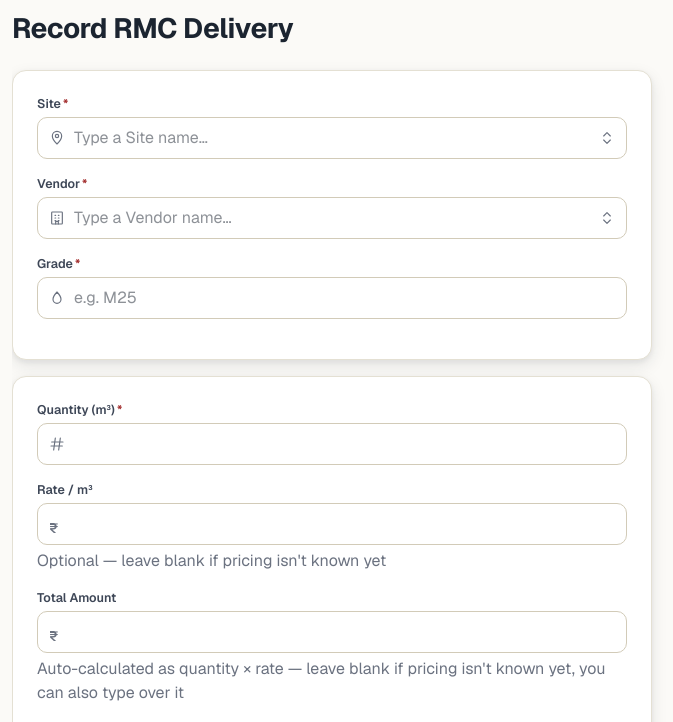
Test: NewRmcEntryPage › renders the RMC delivery form with Site and Vendor options loaded from the API
The image size is (673, 722).
Type "anand" into the dropdown labelled "Vendor" at x=332, y=218, box top-left (37, 197), bottom-right (627, 239)
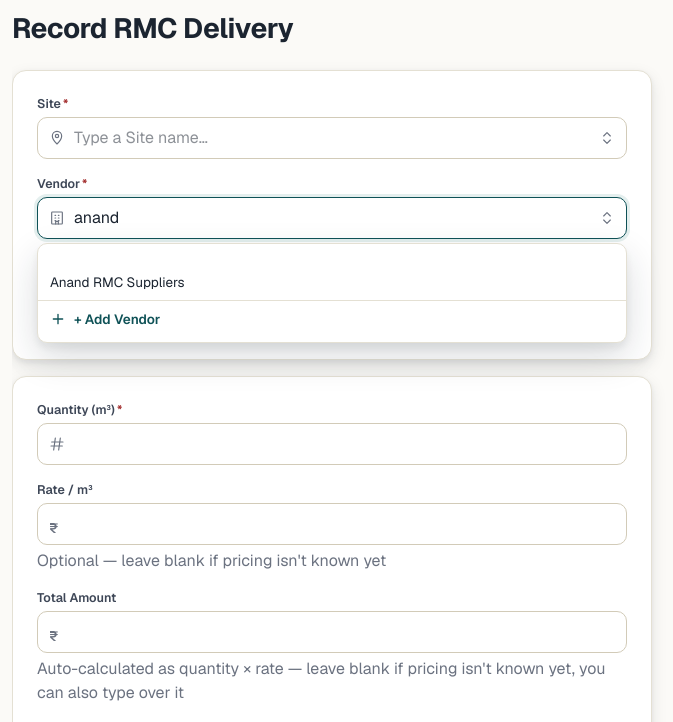
Check: the text "Anand RMC Suppliers" is shown, box top-left (50, 272), bottom-right (184, 292)
